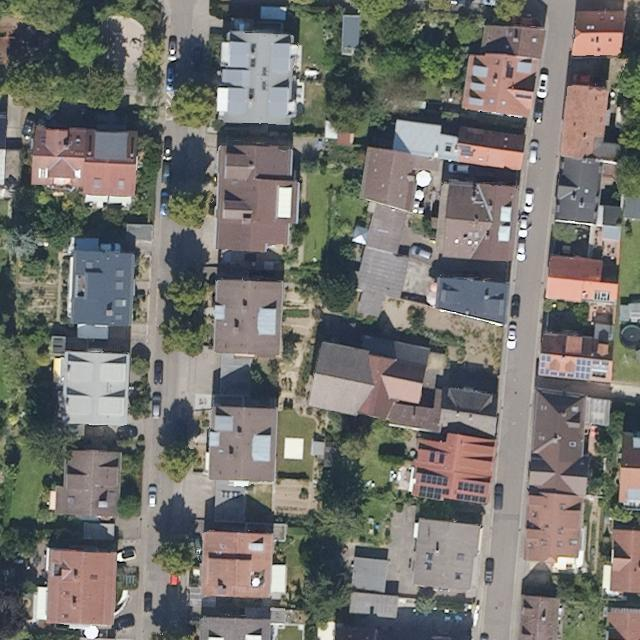PV: (535, 353, 610, 382), (454, 478, 488, 497), (417, 484, 452, 502), (454, 491, 490, 506), (419, 471, 450, 488), (455, 144, 475, 160)
